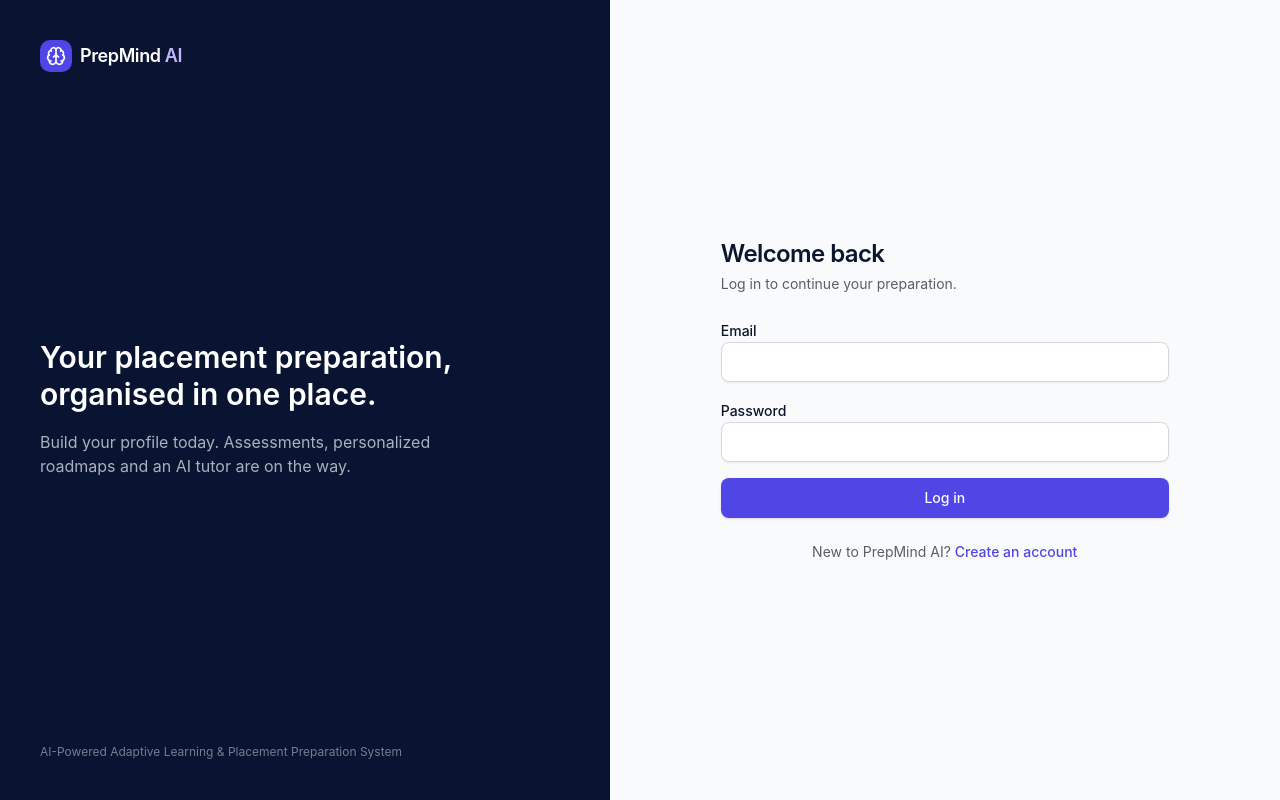
Test: Login & Registration Form Validation › validates required fields on Login
Click the button "Log in". click: (945,498)
box: [721, 478, 1169, 518]
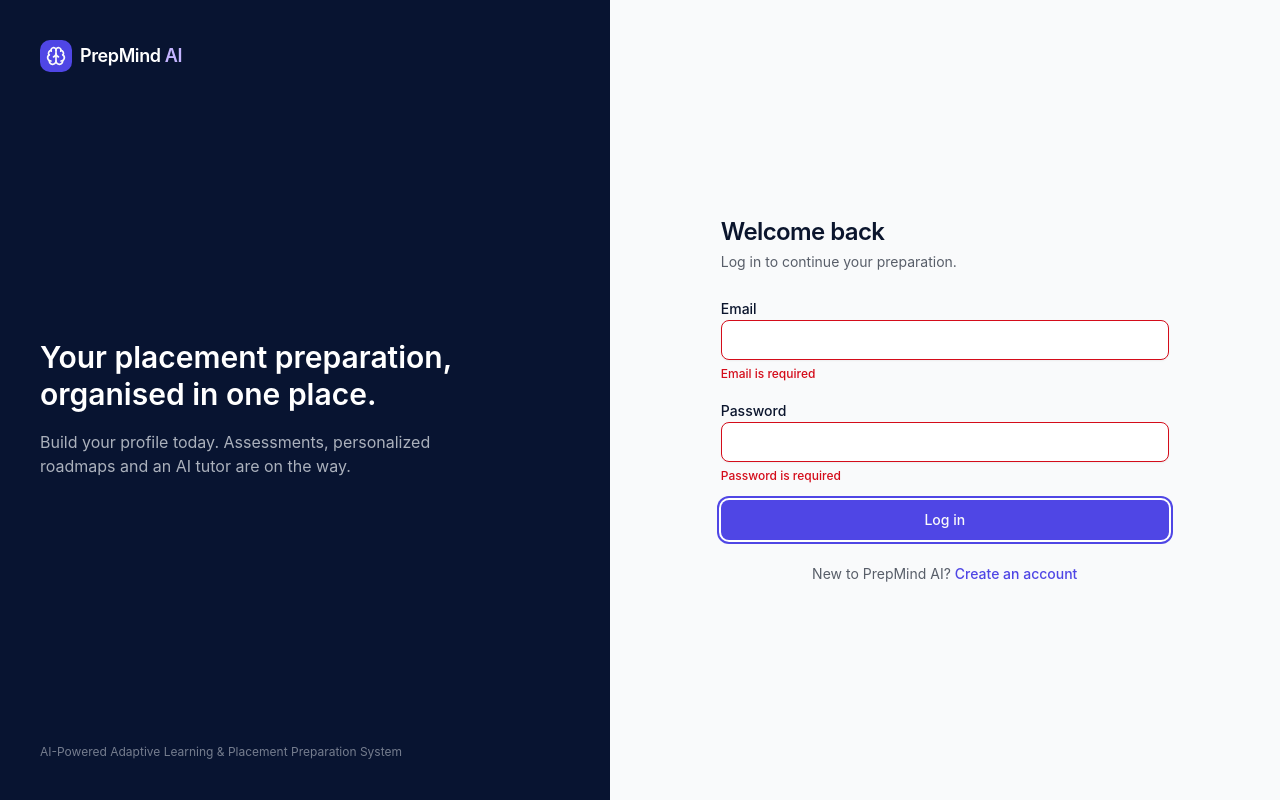
Check: the text "Email is required" is shown, box [721, 366, 815, 381]
Check: the text "Password is required" is shown, box [721, 468, 841, 483]
